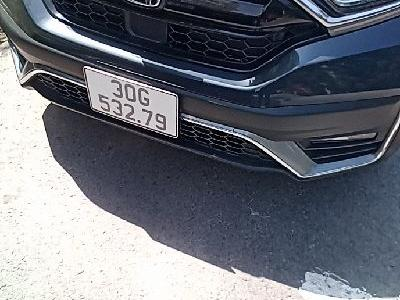car: (83, 65, 178, 140)
